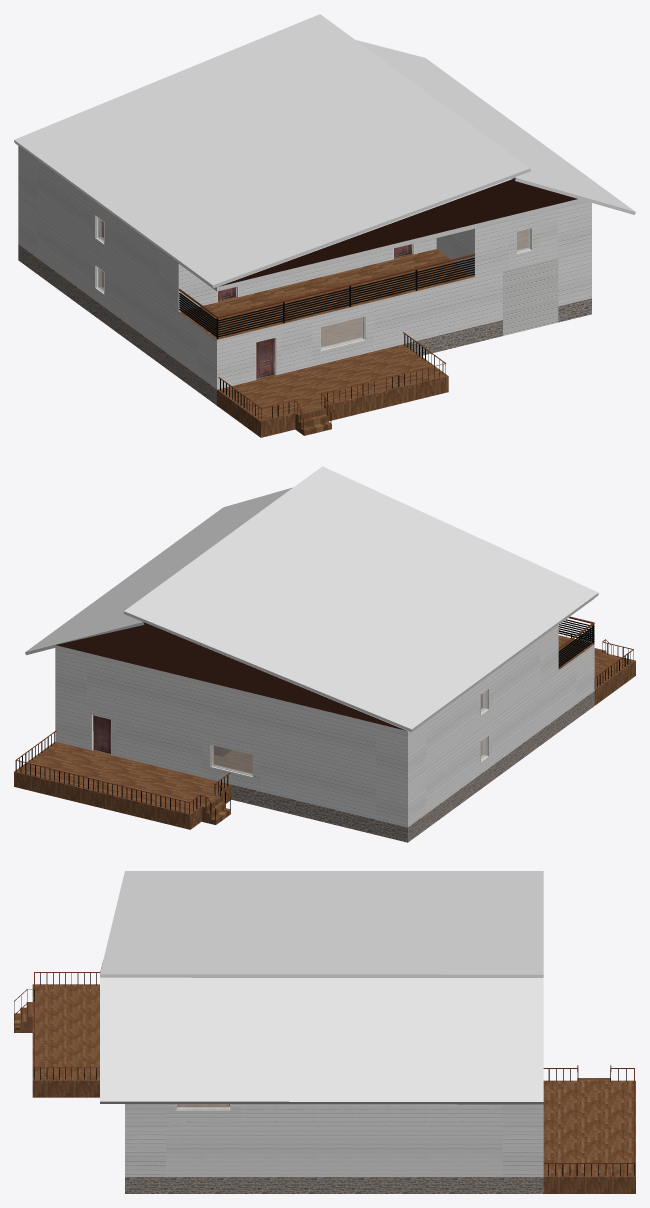
File: house.glb
3 renders of one model, top to bottom at view 1: azimuth 30°, elevation 25°; view 2: azimuth 150°, elevation 25°; view 3: azimuth 270°, elevation 25°, orthographic. The views are drawn at different scales.
Visible parts, largest first — view 1: Plane.004, Plane.001, Plane.002, Cube.097, Cube.170, Cube.010, Cube.016, Cube.139, Cube.099, Cube.047, Cube.126, Cube.006 (+27 smaller); view 2: Plane.004, Plane.001, Cube.092, Cube.026, Cube.107, Plane.002, Cube.116, Cube.037, Cube.194, Cube.029, Cube.112, Cube.113 (+34 smaller); view 3: Plane.004, Plane.001, Cube.037, Cube.047, Cube.038, Cube.039, Cube.040, Cube.041, Cube.042, Cube.043, Cube.044, Cube.045 (+14 smaller).
Part boxes in pixels (x1,y1,x2,y2): Plane.004: [14, 14, 635, 291]; Plane.001: [18, 244, 591, 437]; Plane.002: [18, 194, 591, 341]; Cube.097: [179, 258, 474, 339]; Cube.170: [503, 258, 558, 335]; Cube.010: [312, 303, 373, 366]; Cube.016: [197, 327, 250, 389]; Cube.139: [452, 220, 508, 276]; Cube.099: [159, 249, 212, 311]; Cube.047: [558, 250, 591, 306]; Cube.126: [558, 201, 591, 256]; Cube.006: [281, 318, 312, 373]; Plane.004: [25, 466, 598, 735]; Plane.001: [14, 648, 635, 842]; Cube.092: [202, 732, 260, 791]; Cube.026: [376, 769, 426, 827]; Cube.107: [376, 722, 426, 780]; Plane.002: [55, 635, 594, 781]; Cube.116: [55, 649, 86, 702]; Cube.037: [55, 696, 86, 749]; Cube.194: [15, 730, 230, 820]; Cube.029: [289, 753, 318, 805]; Cube.112: [173, 678, 202, 730]; Cube.113: [144, 671, 173, 723]; Plane.004: [100, 871, 543, 1104]; Plane.001: [14, 984, 635, 1193]; Cube.037: [502, 1126, 543, 1176]; Cube.047: [125, 1126, 165, 1176]; Cube.038: [465, 1126, 502, 1176]; Cube.039: [427, 1126, 464, 1176]; Cube.040: [390, 1126, 427, 1176]; Cube.041: [353, 1126, 390, 1176]; Cube.042: [315, 1126, 352, 1176]; Cube.043: [278, 1126, 315, 1176]; Cube.044: [241, 1126, 278, 1176]; Cube.045: [203, 1126, 240, 1176].
Bounding box in the file's own units: 26.77 × 10.73 × 33.28.
Materials: 16 (8 with a texture image).
